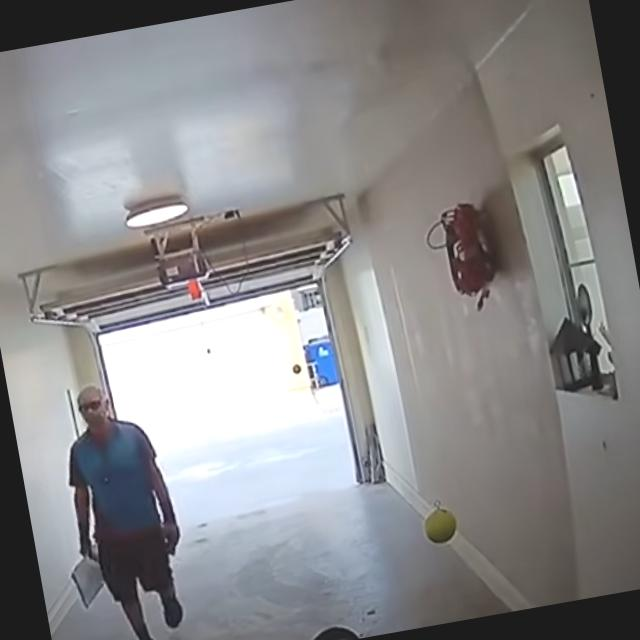person: (49, 373, 202, 640)
